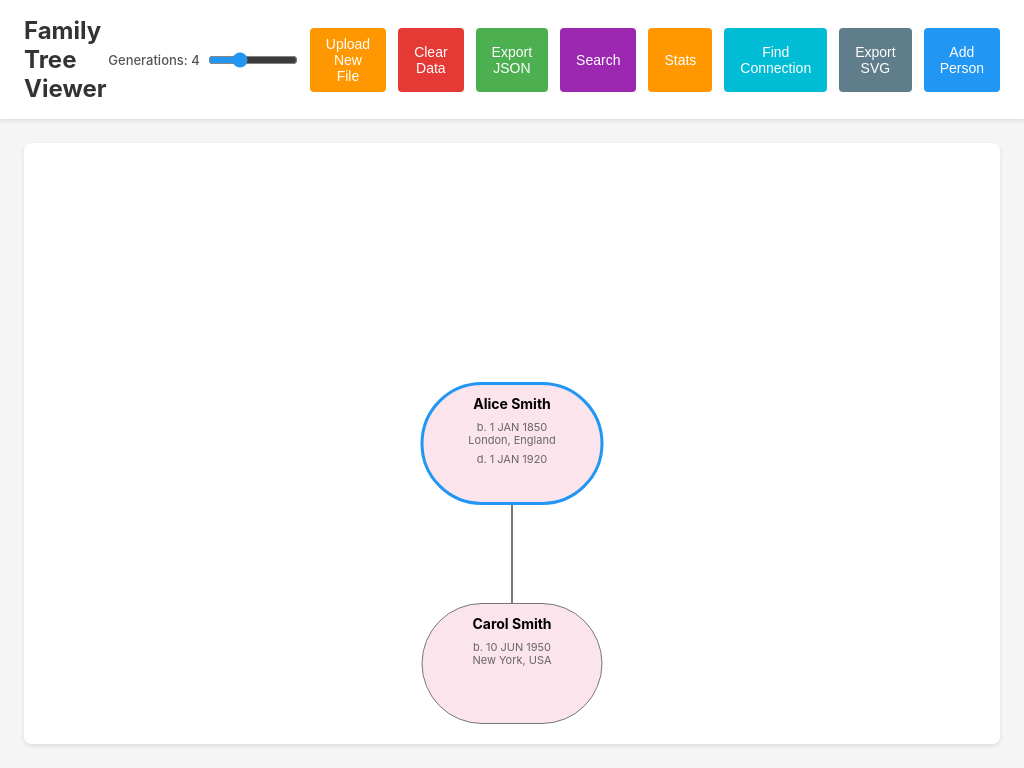
App (component) › search modal › name filter › is case-insensitive
Click the button with class "search-btn". click: (598, 60)
box: top-left (560, 28), bottom-right (636, 92)
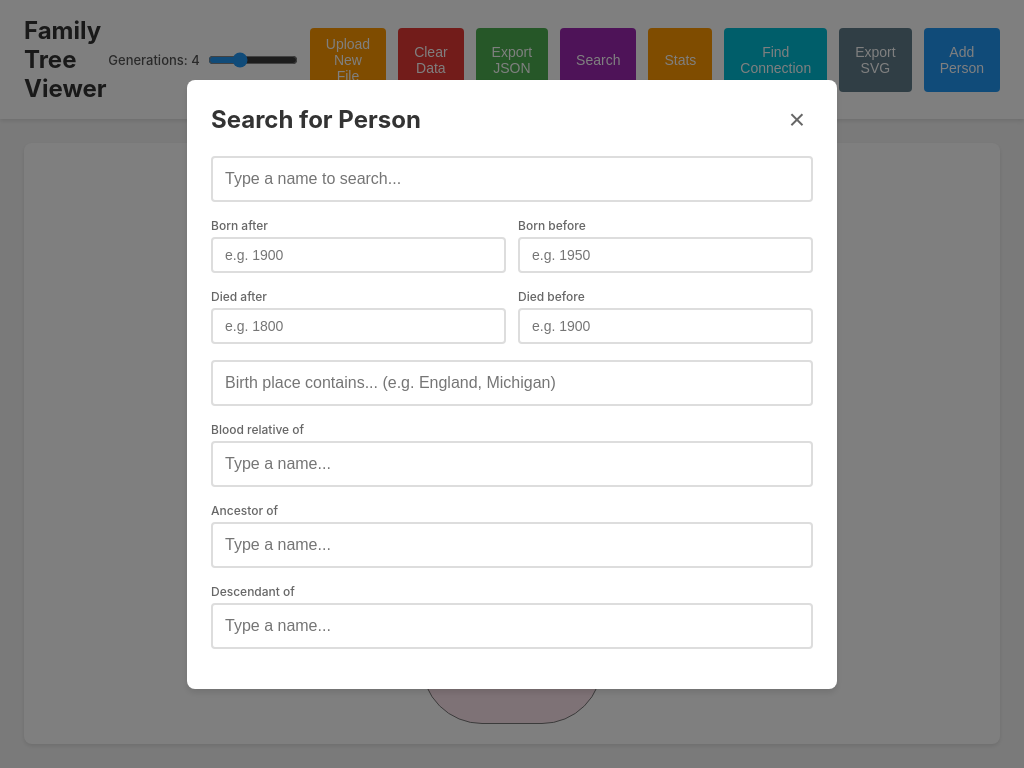
Type "CAROL" into the field with class "search-input" showing "Type a name to search...". click: (512, 178)
box: top-left (211, 156), bottom-right (813, 202)
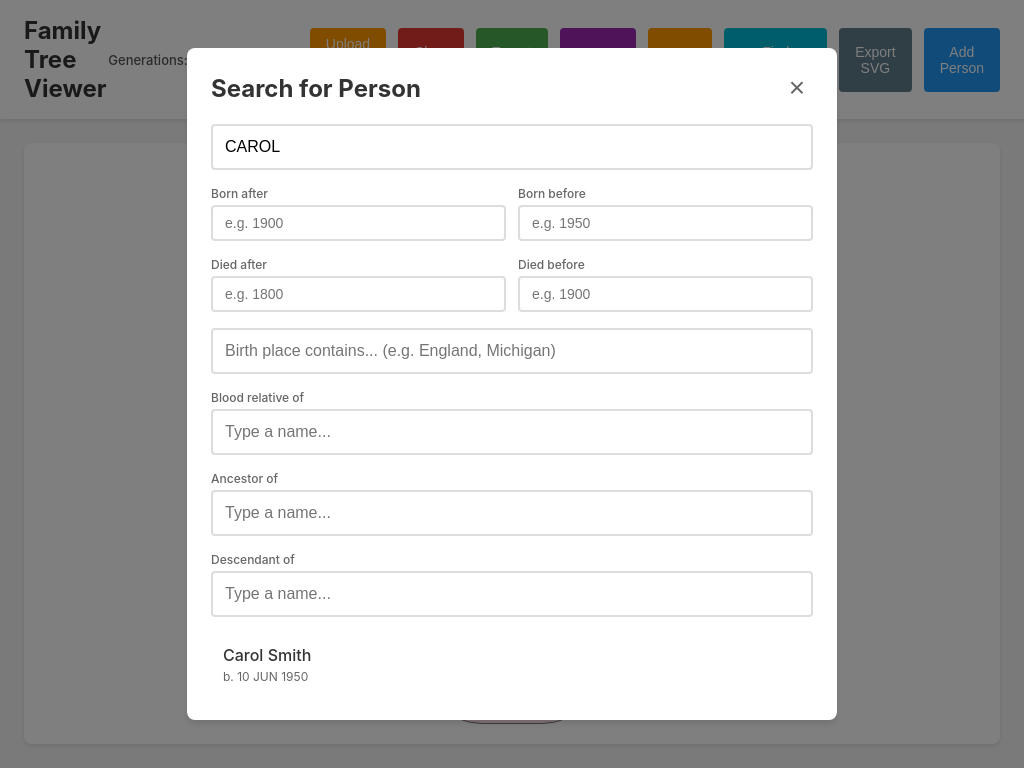
Expected: the number of elements with class "search-result-item" is 1, top-left (223, 645), bottom-right (311, 684)
